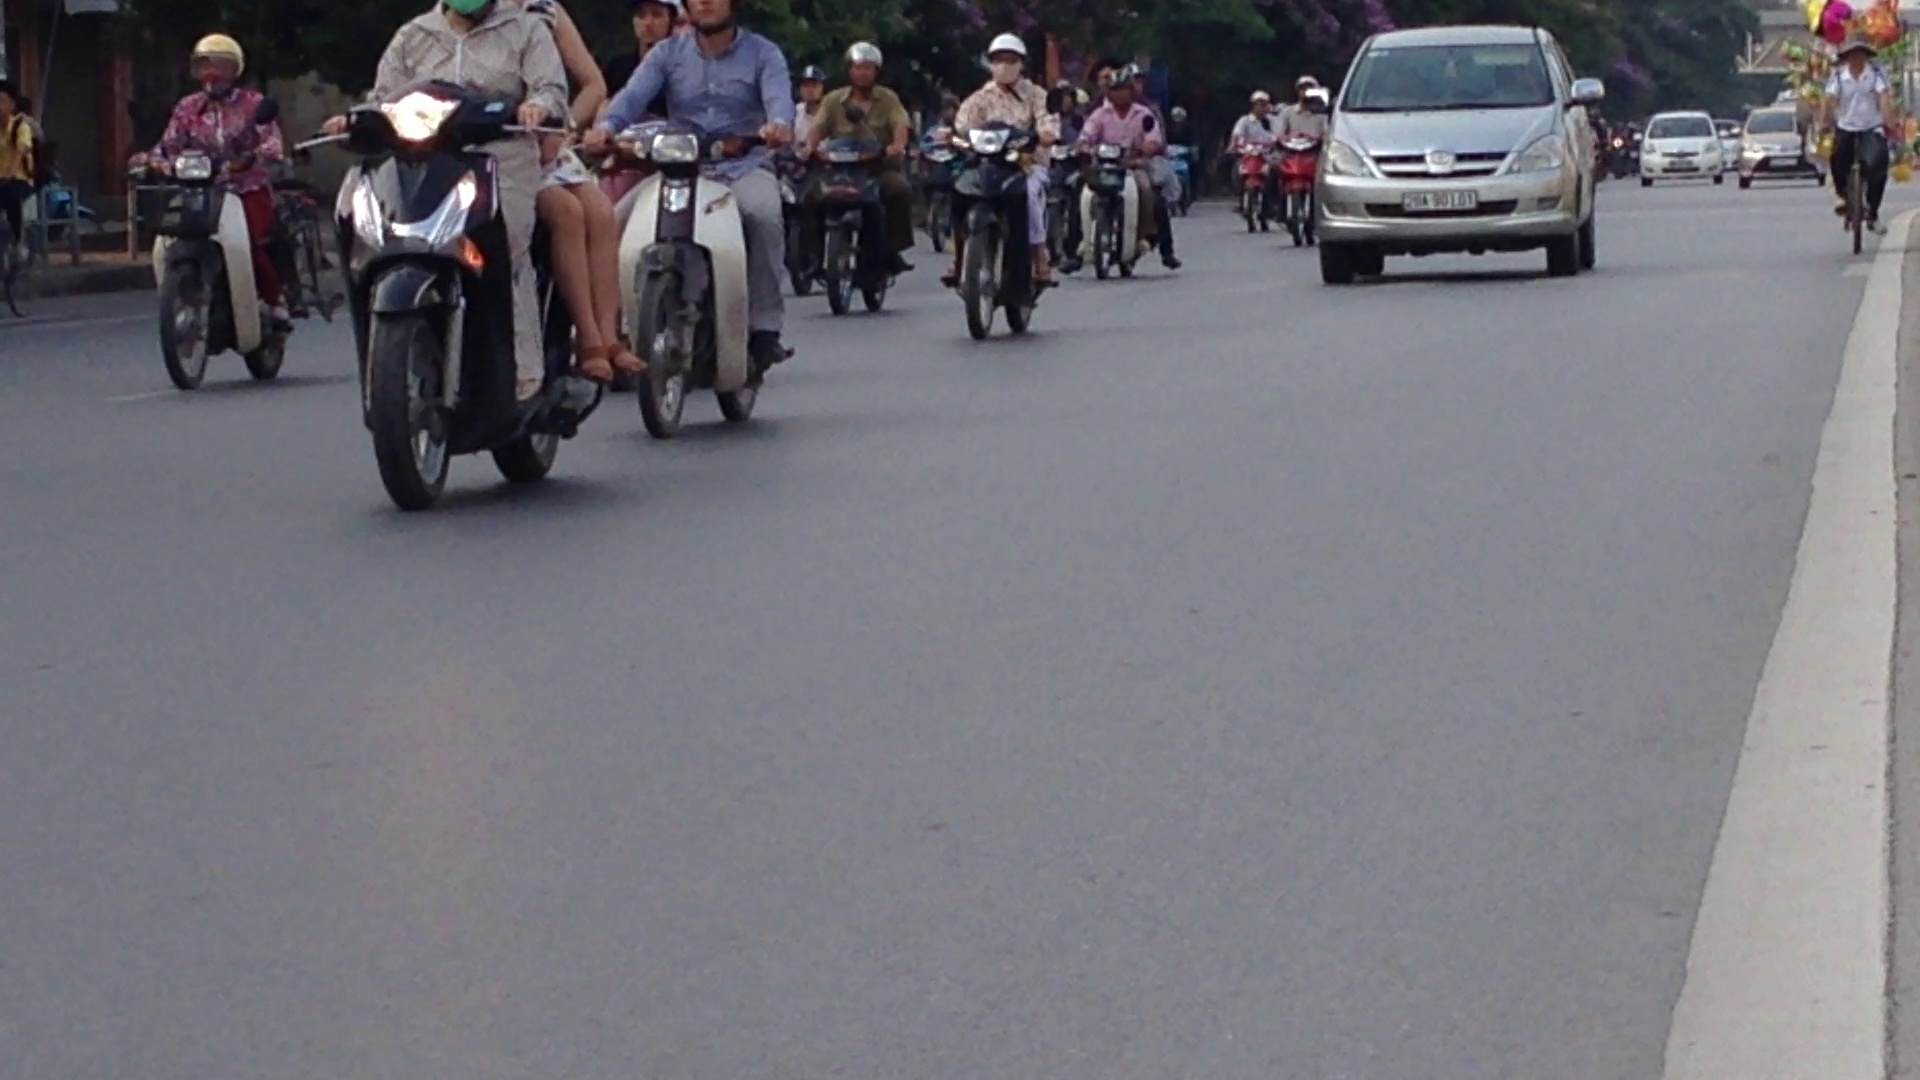person: (1396, 184, 1483, 216)
